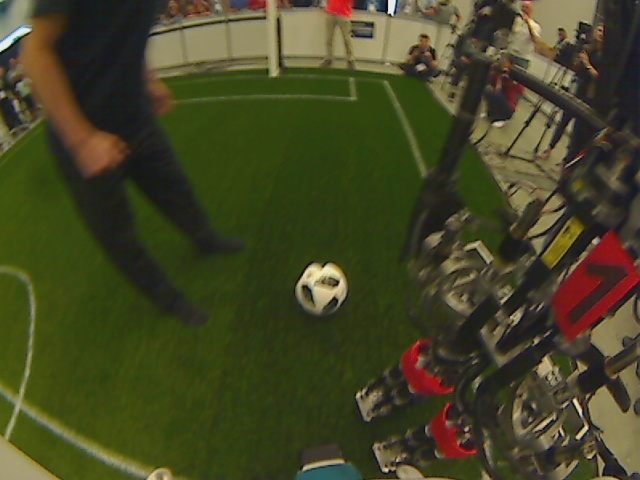ball: (295, 260, 349, 317)
